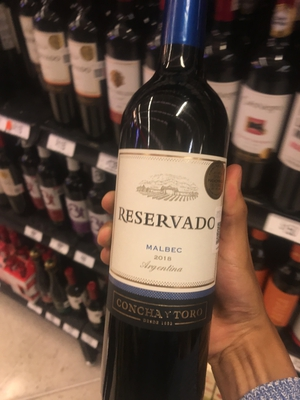reservado malbec: (94, 3, 231, 400)
